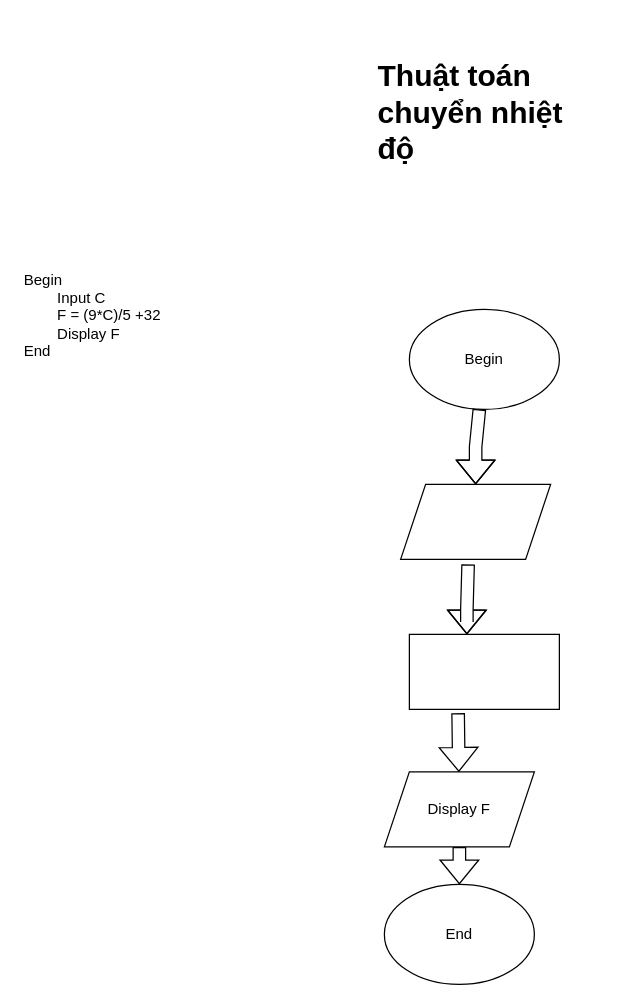
Image size: 630x1006. Some labels were removed from this diagram. The shapes that lost their labels are listed below. From the top down, each one's box as (x1, y1, x2, y2) in pixels, then its label:
(399, 483, 551, 559): Input C
(408, 633, 559, 709): F = (9*C)/5 +32
